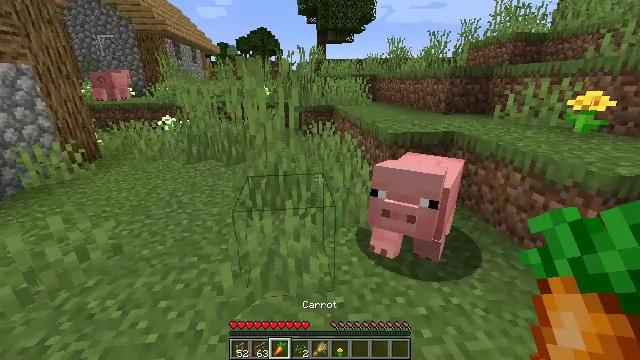pig: (369, 151, 466, 261), (92, 70, 131, 102)
